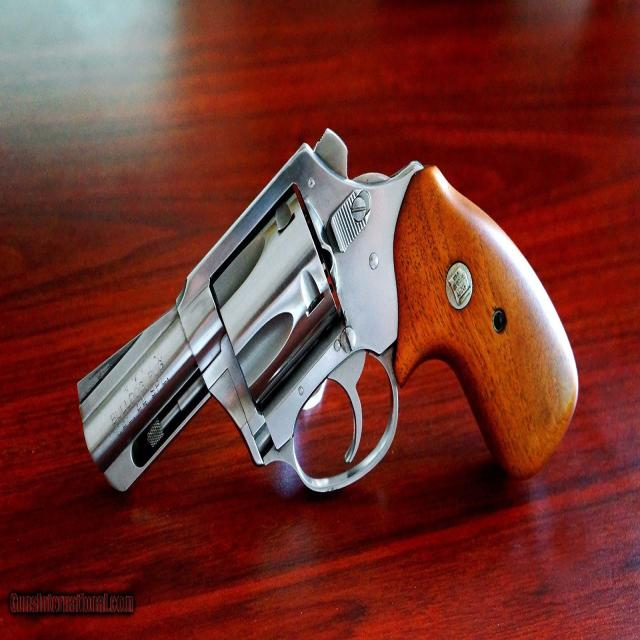Gun: (39, 104, 606, 542)
